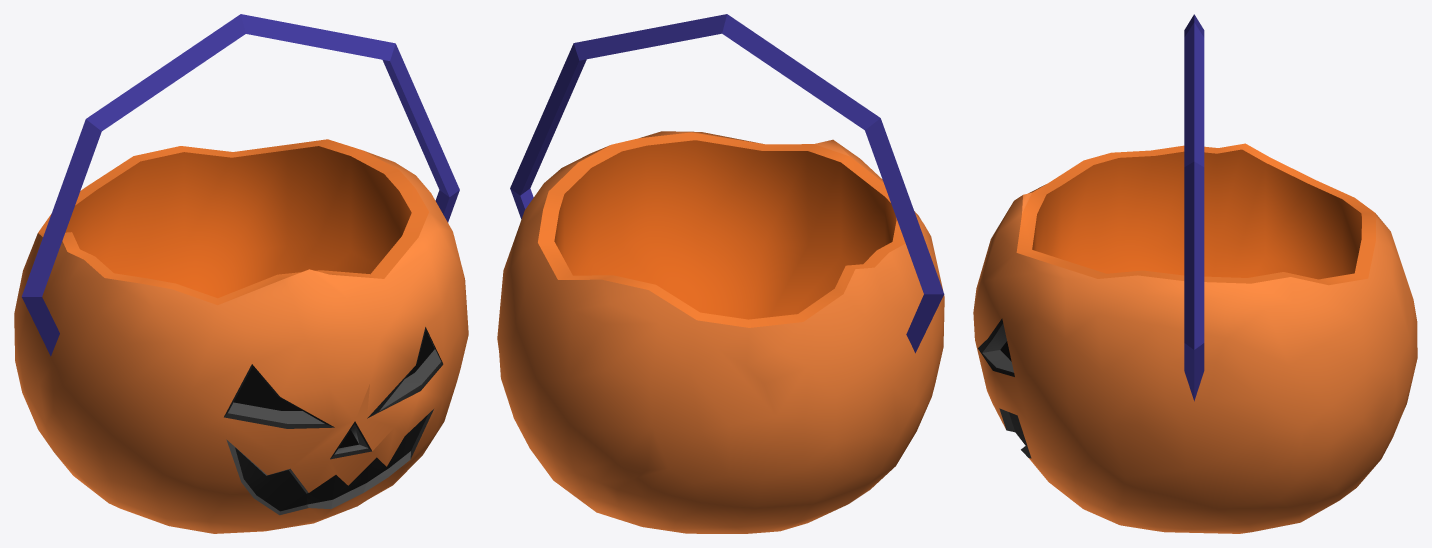
The model's file is HWN20_PumpkinBasket.gltf.
3 views of the same model, side by side, from view 1: azimuth 30°, elevation 25°; view 2: azimuth 150°, elevation 25°; view 3: azimuth 270°, elevation 25° (orthographic). The views are drawn at different scales.
Visible parts, largest first — view 1: HWN20_PumpkinBasket_glb; view 2: HWN20_PumpkinBasket_glb; view 3: HWN20_PumpkinBasket_glb.
Part boxes in pixels (x1=…): HWN20_PumpkinBasket_glb: x1=14, y1=14, x2=468, y2=533; HWN20_PumpkinBasket_glb: x1=497, y1=14, x2=944, y2=533; HWN20_PumpkinBasket_glb: x1=973, y1=14, x2=1417, y2=533.
Size of what is drawn, in the model's own units: 0.5515 by 0.5779 by 0.4965.
Materials: 1 (1 with a texture image).
